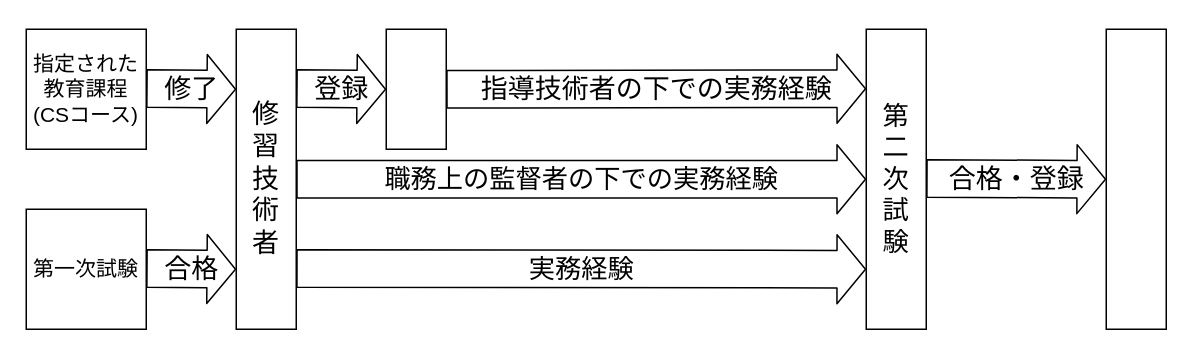
The diagram is 1193 pixels wide and 356 high, and some of its shapes have lost their labels. Here are the shapes that lost their labels. From the top down, the centre of each, then its label:
pixel 415 88: 技 術 士 補
pixel 1135 178: 技 術 士
